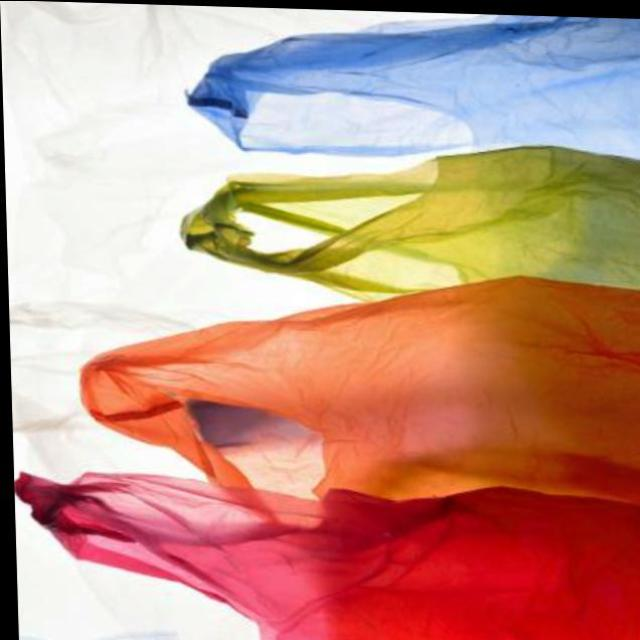plastik: (82, 277, 640, 503), (16, 472, 640, 640), (181, 146, 640, 295), (187, 18, 640, 157)
